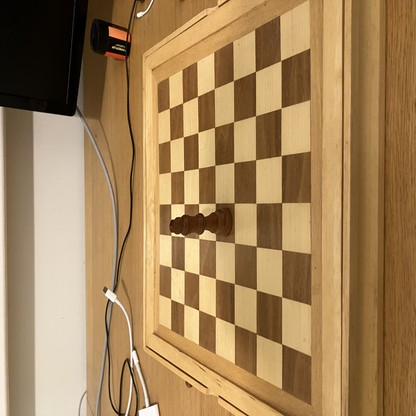king_black: (169, 210, 231, 237)
